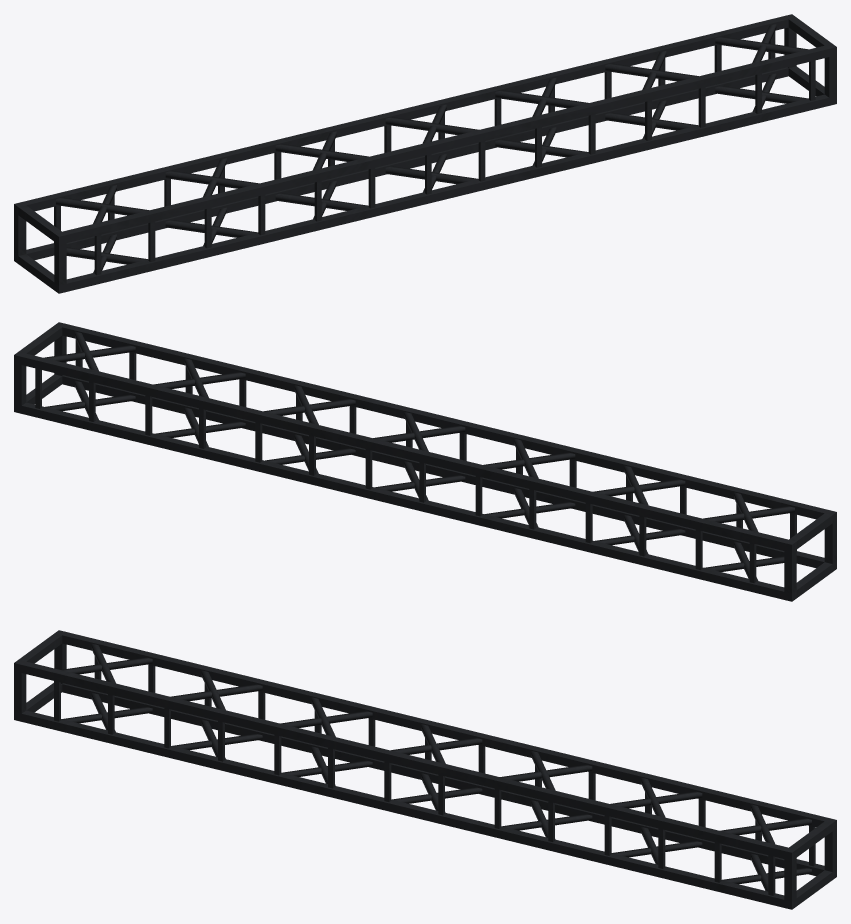
Rendered from SpotlightStructure1.fbx.
3 renders of one model, top to bottom at view 1: azimuth 30°, elevation 25°; view 2: azimuth 150°, elevation 25°; view 3: azimuth 330°, elevation 25°, orthographic.
Parts seen in each view (by area): view 1: Structure; view 2: Structure; view 3: Structure.
Part boxes in pixels (box(x1,y1,x2,y2)): Structure: box(14, 14, 836, 293); Structure: box(14, 322, 836, 601); Structure: box(14, 630, 836, 909).
Bounding box in the file's own units: 500 × 35 × 50.
